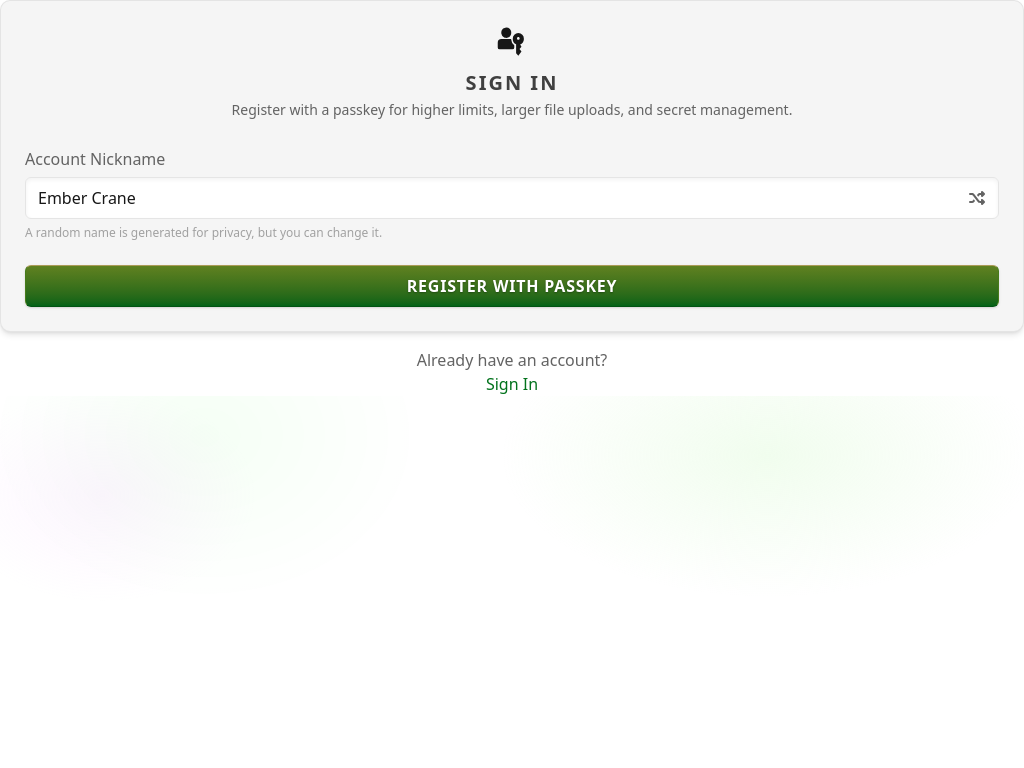
it: RegisterPage › shows cancelled message on NotAllowedError
Type "Carol" into the field labelled "Account Nickname" at (512, 198), box [25,176,999,218]
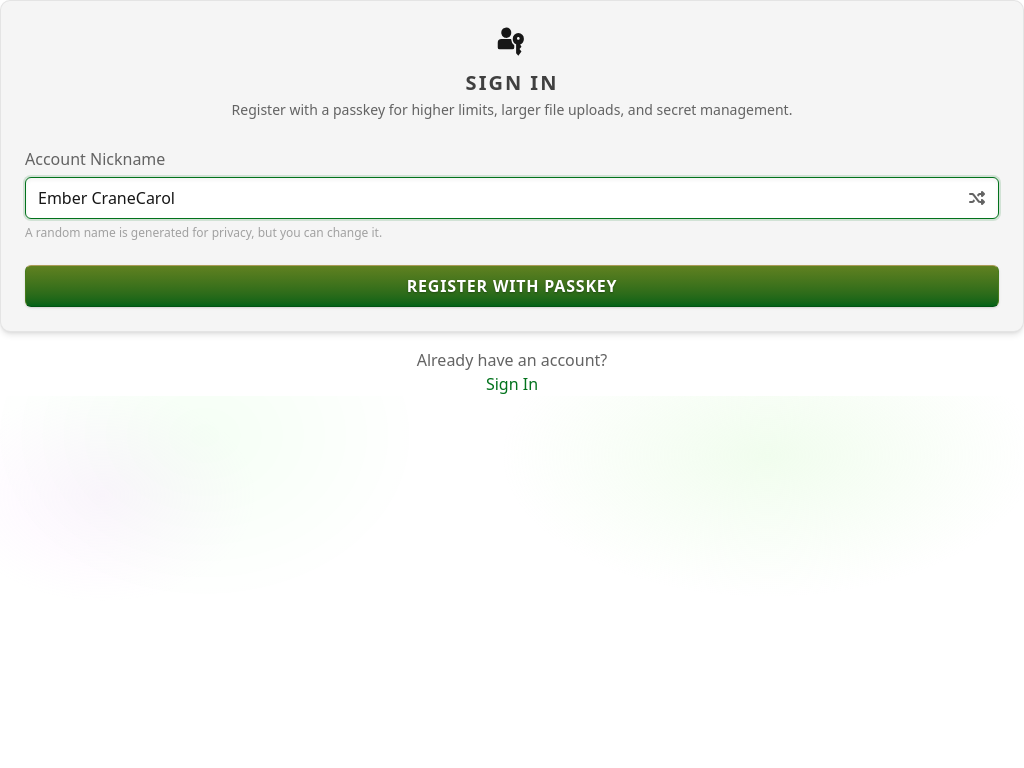
Click the button "Register with Passkey" at (512, 286), box [25,264,999,306]
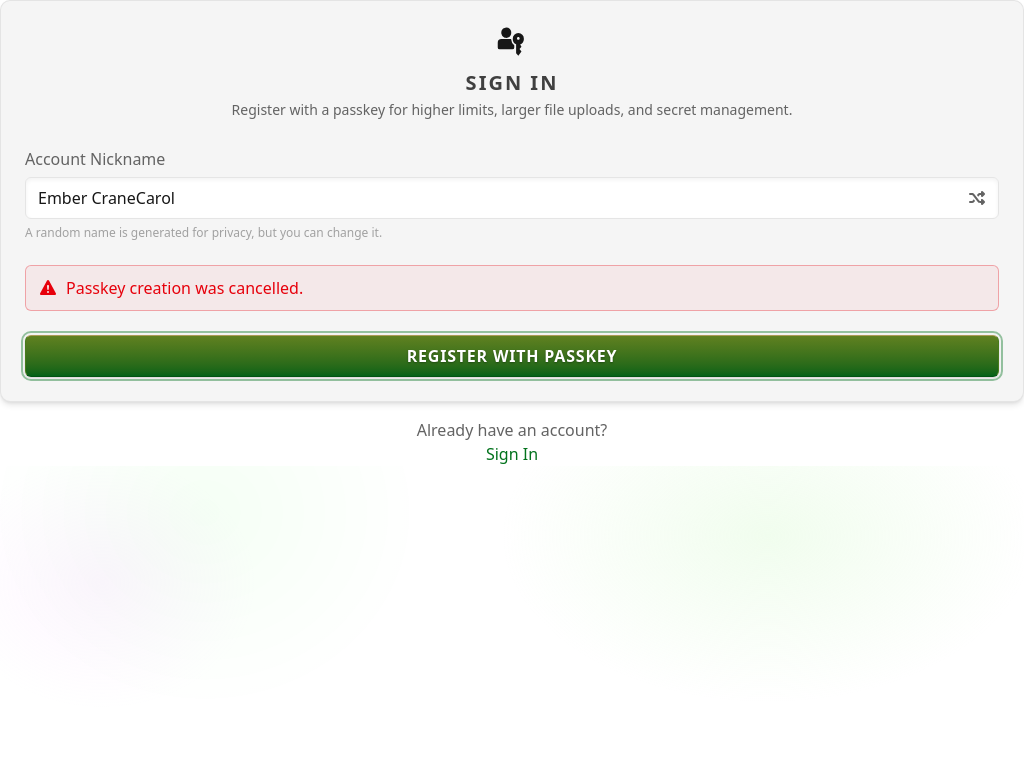
Expected: the message shows "Passkey creation was cancelled", [66,276,303,298]
